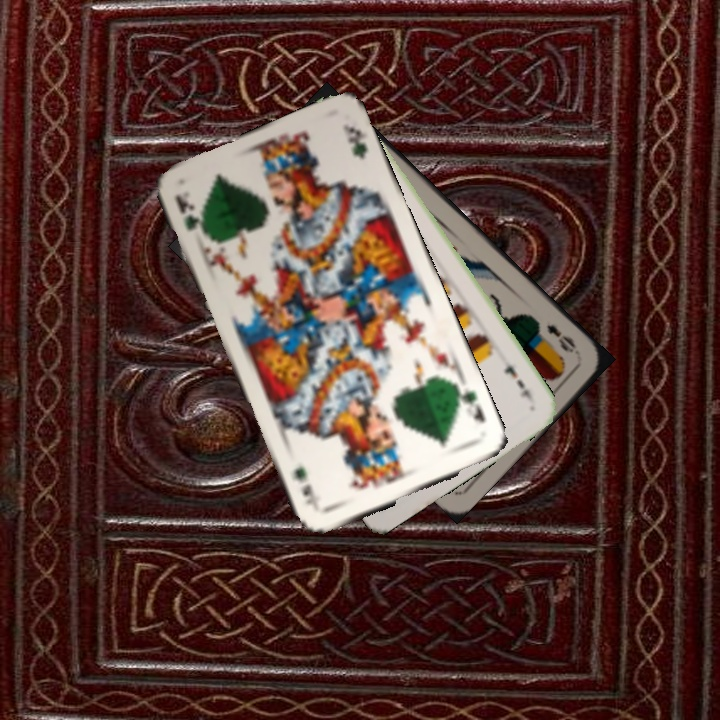E7: (500, 361, 536, 406)
EO: (542, 320, 579, 356)
GK: (171, 191, 210, 241), (453, 383, 488, 425)
